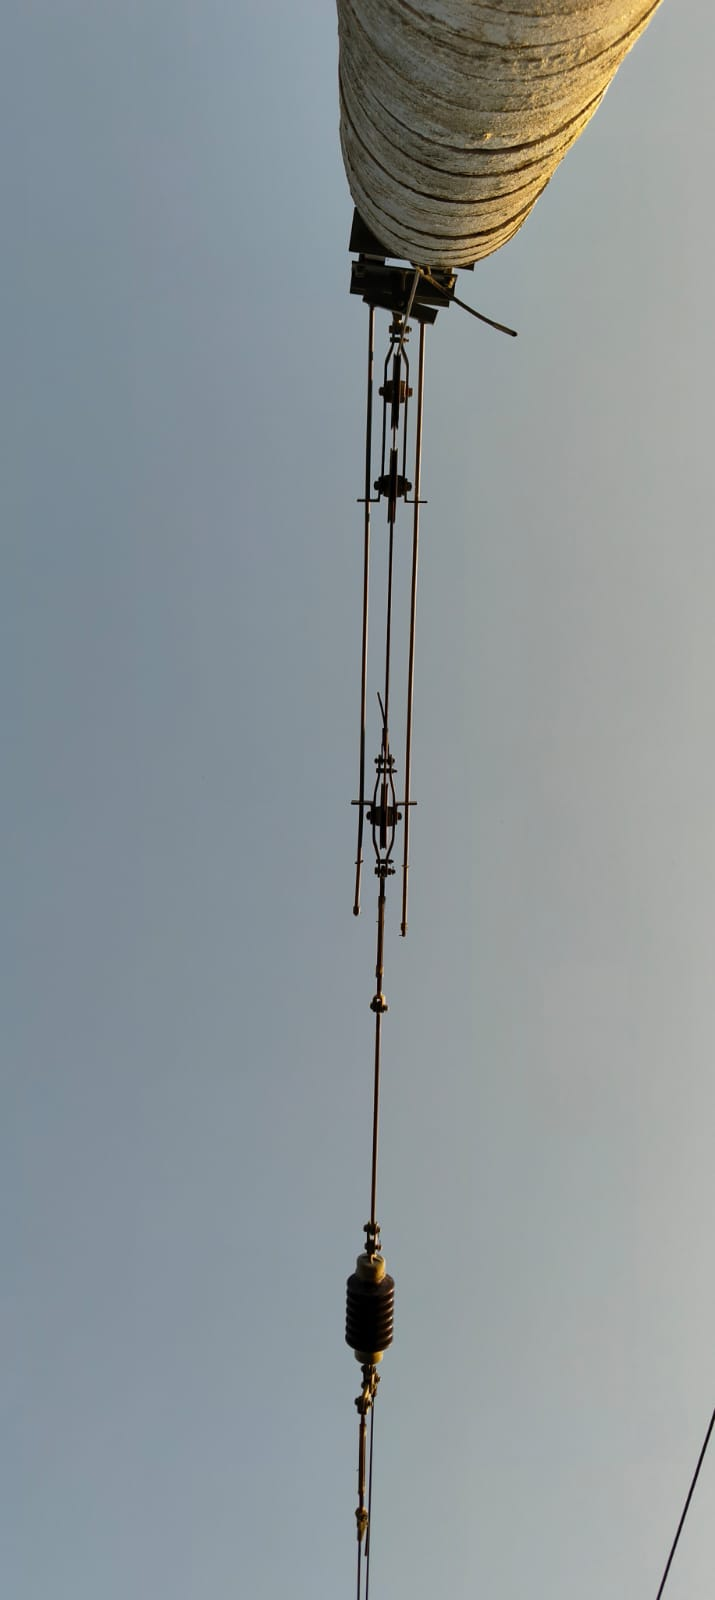Pulley: (359, 324, 444, 427), (351, 767, 419, 874), (359, 437, 440, 523)
objectA: (328, 1207, 419, 1438)
